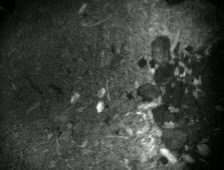corn: (68, 90, 81, 105), (95, 99, 107, 115), (95, 86, 108, 100), (76, 2, 89, 14)
